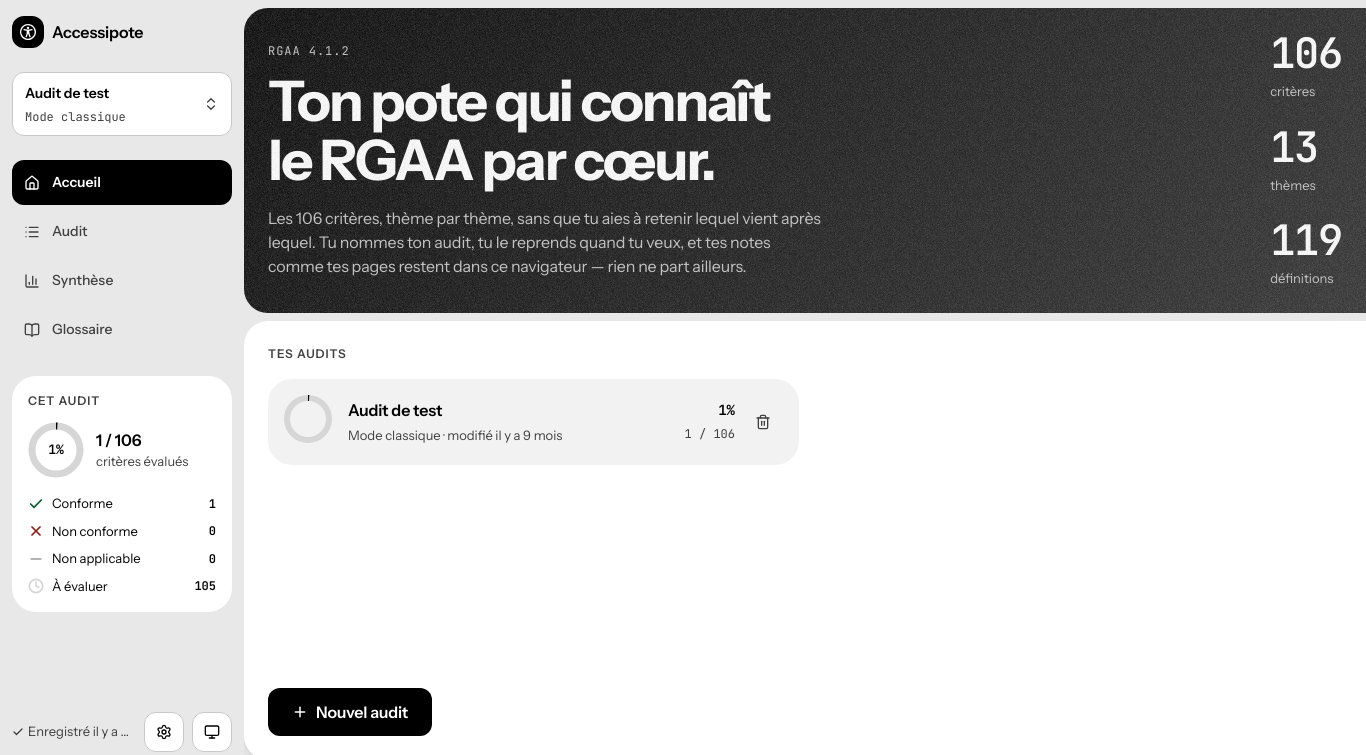
Test: App — navigation entre les vues › affiche la synthèse de l'audit actif
This screenshot has width=1366, height=755.
What coordinates should you click on to do the following:
click the button "Synthèse"
I would click on:
 (122, 280)
Its box is [12, 258, 232, 303].
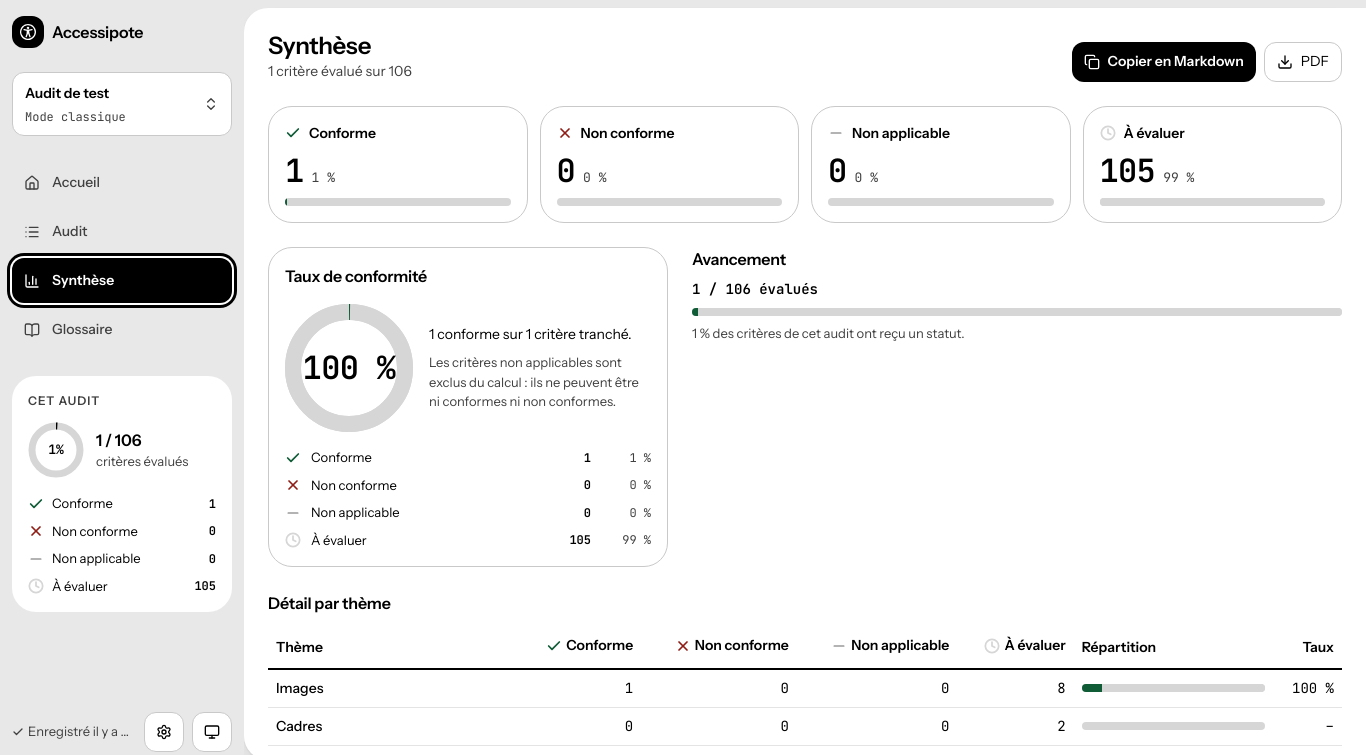
Expected: the heading "Synthèse" is shown, [268, 31, 371, 60]
